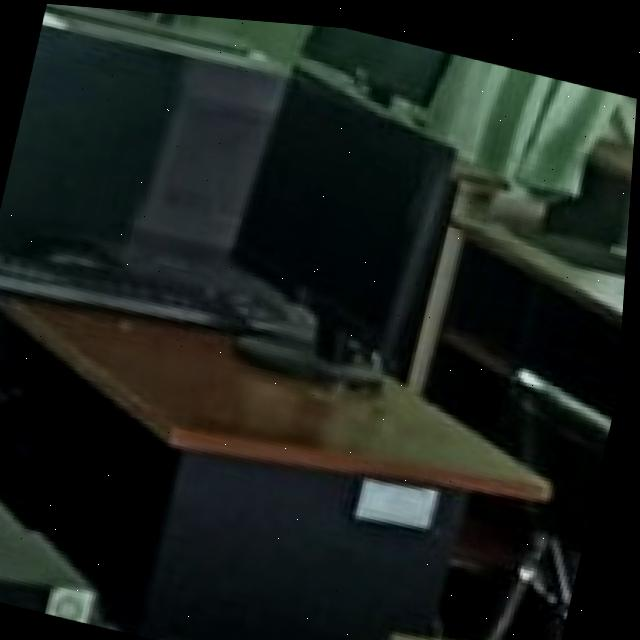offscreen: (235, 66, 447, 344)
